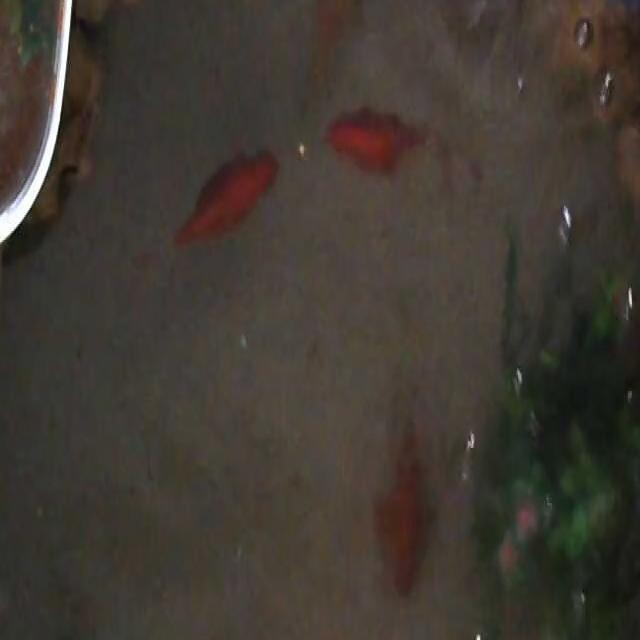fish: (373, 418, 435, 600), (172, 149, 280, 248), (326, 104, 446, 178), (308, 0, 354, 92)
